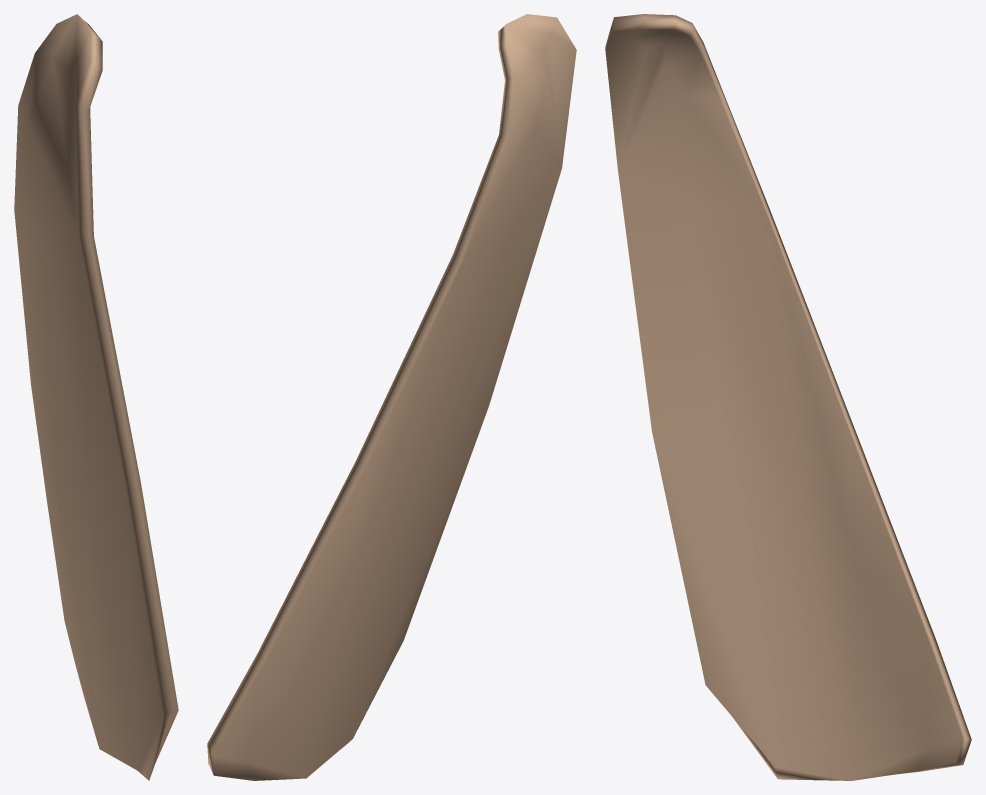
The picture shows the model from 3 angles, left to right: view 1: azimuth 30°, elevation 25°; view 2: azimuth 150°, elevation 25°; view 3: azimuth 270°, elevation 25°; orthographic projection. The views are drawn at different scales.
Parts seen in each view (by area): view 1: 右侧髌外侧支持带; view 2: 右侧髌外侧支持带; view 3: 右侧髌外侧支持带.
Part boxes in pixels (x1,y1,x2,y2): 右侧髌外侧支持带: (14, 14, 178, 780); 右侧髌外侧支持带: (207, 14, 576, 780); 右侧髌外侧支持带: (605, 14, 971, 780).
Bounding box in the file's own units: 0.0204 × 0.0721 × 0.0337.
